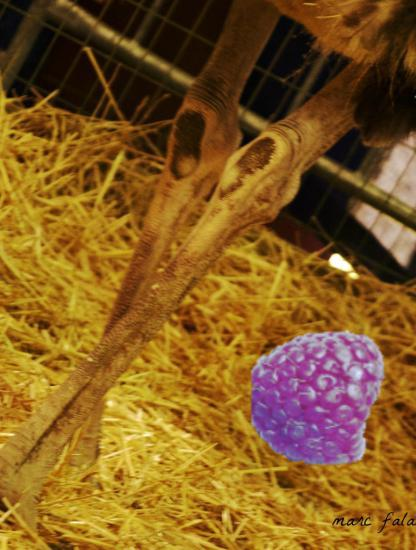Raspberry: (248, 327, 388, 467)
